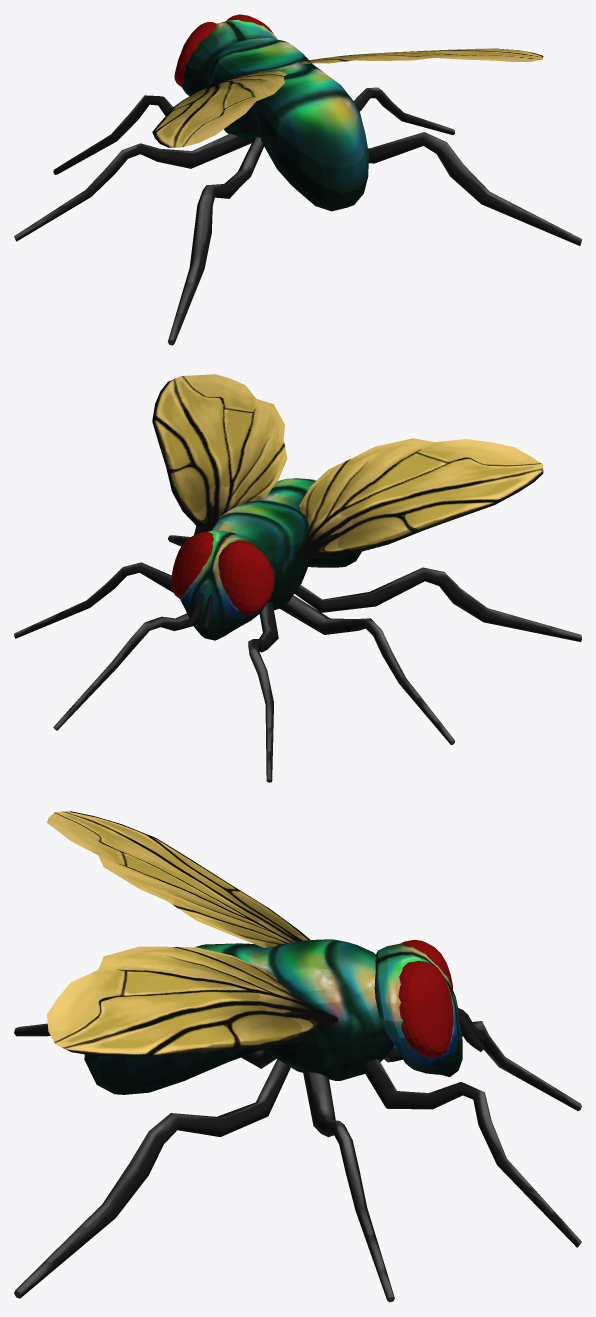
The model's file is fly_-_low_poly.glb.
The picture shows the model from 3 angles, top to bottom: view 1: azimuth 30°, elevation 25°; view 2: azimuth 150°, elevation 25°; view 3: azimuth 270°, elevation 25°; orthographic projection. The views are drawn at different scales.
Parts seen in each view (by area): view 1: Cube.001, Cube.003, NurbsPath.002, NurbsPath.001, Cube, NurbsPath, Cube.004; view 2: Cube.003, Cube.001, Cube.004, NurbsPath.001, NurbsPath.002, NurbsPath, Cube; view 3: Cube.003, Cube.001, NurbsPath.002, NurbsPath, Cube.004, Cube, NurbsPath.001.
Part boxes in pixels (x1=…): Cube.001: x1=206, y1=38, x2=368, y2=211; Cube.003: x1=152, y1=48, x2=543, y2=147; NurbsPath.002: x1=168, y1=132, x2=581, y2=345; NurbsPath.001: x1=14, y1=87, x2=454, y2=241; Cube: x1=182, y1=19, x2=276, y2=96; NurbsPath: x1=53, y1=95, x2=172, y2=174; Cube.004: x1=174, y1=14, x2=273, y2=86; Cube.003: x1=152, y1=374, x2=543, y2=558; Cube.001: x1=212, y1=478, x2=361, y2=610; Cube.004: x1=171, y1=532, x2=274, y2=614; NurbsPath.001: x1=14, y1=562, x2=454, y2=744; NurbsPath.002: x1=168, y1=526, x2=581, y2=641; NurbsPath: x1=53, y1=601, x2=278, y2=782; Cube: x1=180, y1=530, x2=277, y2=640; Cube.003: x1=47, y1=811, x2=337, y2=1057; Cube.001: x1=84, y1=939, x2=393, y2=1094; NurbsPath.002: x1=14, y1=1023, x2=290, y2=1298; NurbsPath: x1=363, y1=1021, x2=581, y2=1247; Cube.004: x1=398, y1=939, x2=453, y2=1057; Cube: x1=374, y1=943, x2=462, y2=1077; NurbsPath.001: x1=303, y1=1072, x2=394, y2=1302.
Size of the model in its own units: 8.01 by 3.54 by 6.81.
Materials: 5 (4 with a texture image).
